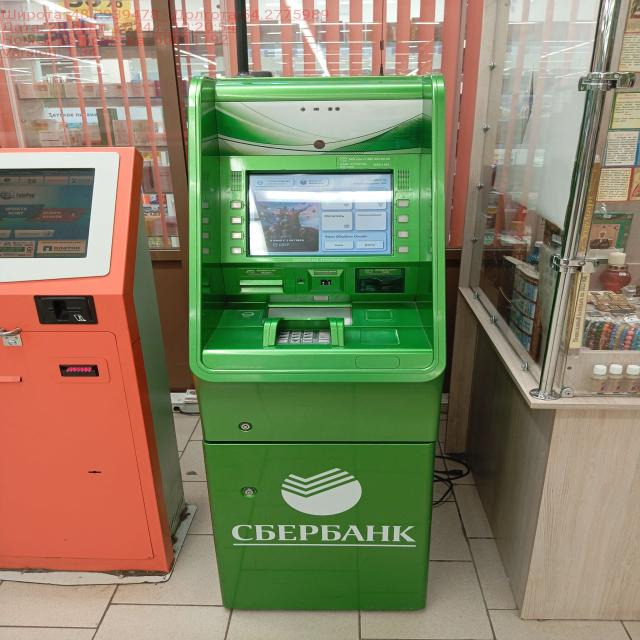bank: (186, 75, 449, 611)
